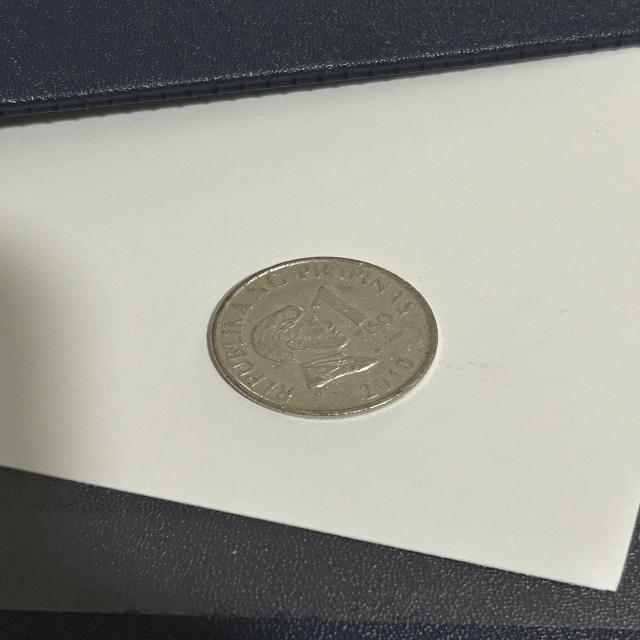1_Old_Front: (308, 281, 396, 344)
